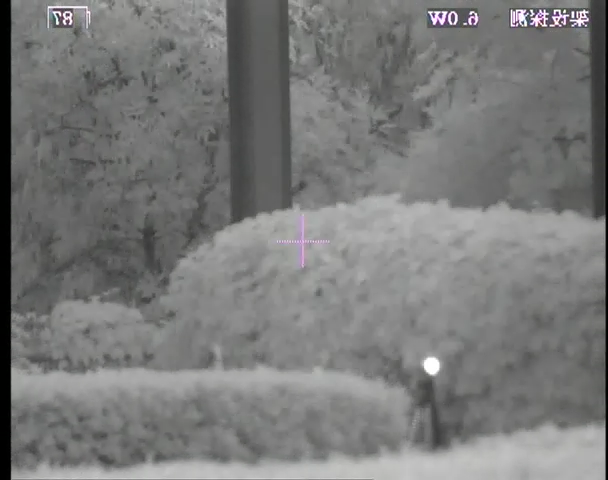my: (422, 356, 441, 376)
